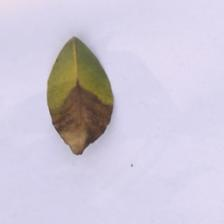black spot: (24, 84, 140, 164)
